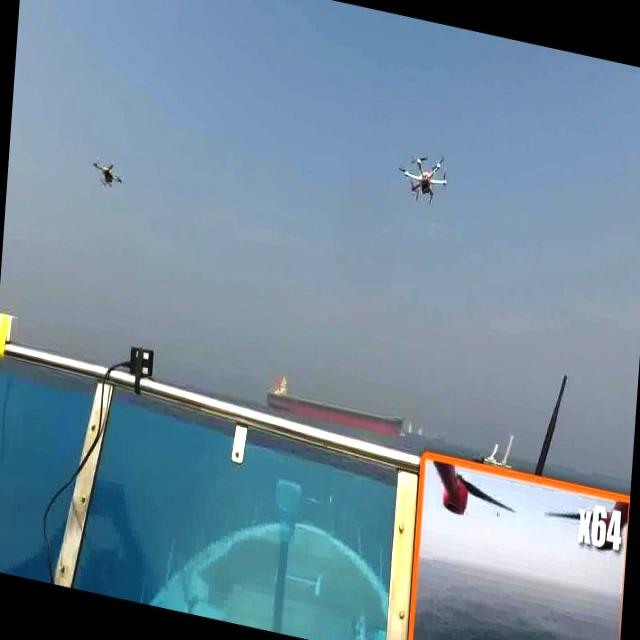drone: (392, 124, 450, 215), (87, 147, 129, 207)
